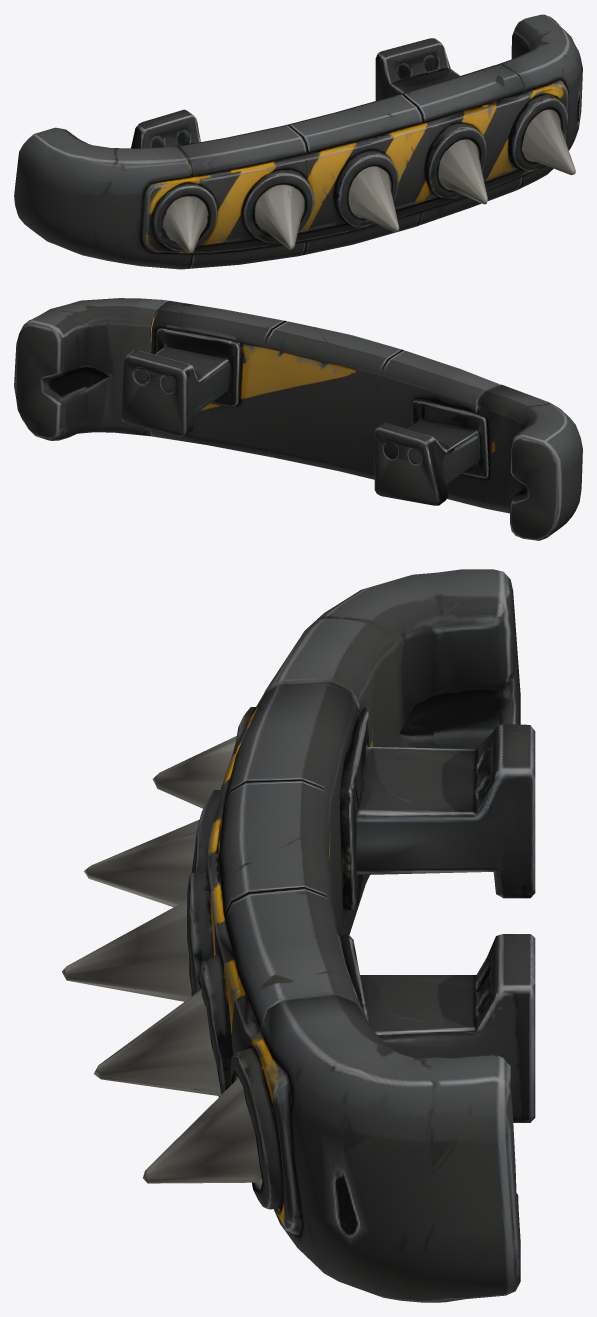
Rendered from blitz-spike_bumper.glb.
3 views of the same model, one above another, from view 1: azimuth 30°, elevation 25°; view 2: azimuth 150°, elevation 25°; view 3: azimuth 270°, elevation 25° (orthographic). The views are drawn at different scales.
Parts seen in each view (by area): view 1: tripo_node_bb1afaa5-4d3f-4d62-a71a-b7558292ae74; view 2: tripo_node_bb1afaa5-4d3f-4d62-a71a-b7558292ae74; view 3: tripo_node_bb1afaa5-4d3f-4d62-a71a-b7558292ae74.
Part boxes in pixels (x1,y1,x2,y2): tripo_node_bb1afaa5-4d3f-4d62-a71a-b7558292ae74: (14, 14, 582, 269); tripo_node_bb1afaa5-4d3f-4d62-a71a-b7558292ae74: (14, 298, 582, 540); tripo_node_bb1afaa5-4d3f-4d62-a71a-b7558292ae74: (62, 569, 535, 1302).
Size of the model in its own units: 1.4 by 0.32 by 0.5279.
1 material, 1 textured.
